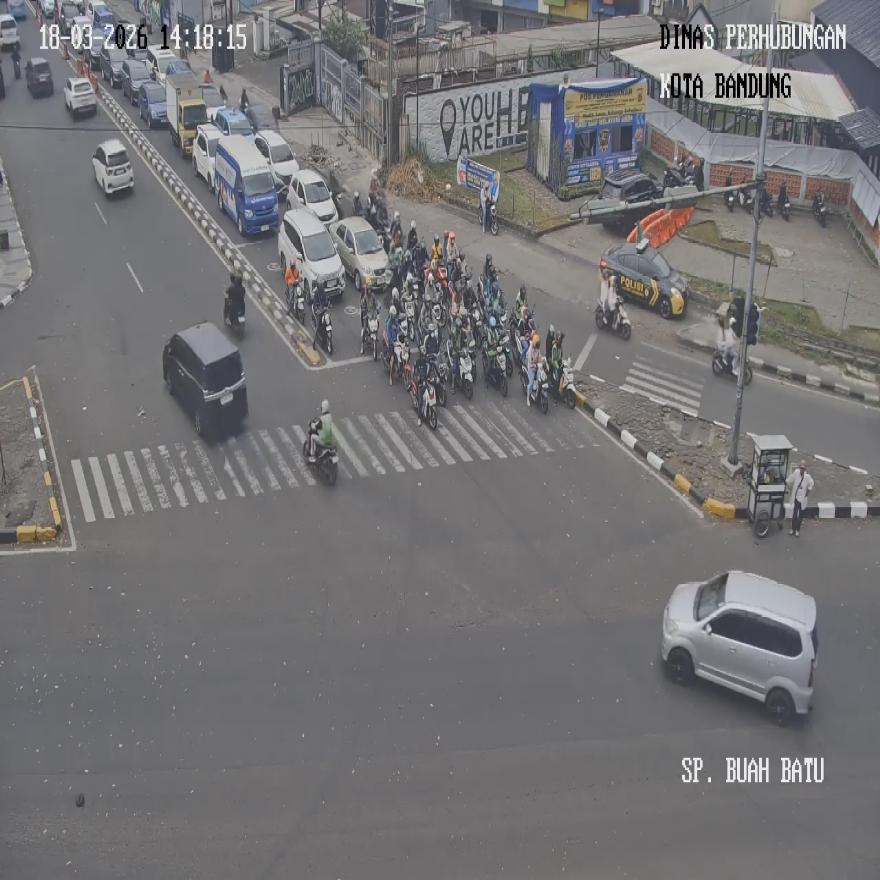Motor: (660, 568, 818, 726), (162, 322, 248, 436), (279, 208, 345, 303), (92, 138, 134, 196)
Truk: (303, 417, 338, 484), (594, 290, 631, 338), (712, 345, 752, 385), (449, 342, 474, 398), (414, 373, 439, 429), (526, 360, 550, 415), (484, 341, 507, 396), (312, 298, 333, 354), (224, 286, 246, 337), (386, 339, 409, 386), (555, 356, 576, 407), (742, 184, 772, 218), (359, 310, 379, 360), (287, 276, 305, 323), (479, 196, 499, 234), (812, 191, 826, 226), (777, 186, 790, 220), (11, 43, 21, 79), (724, 184, 736, 212)
